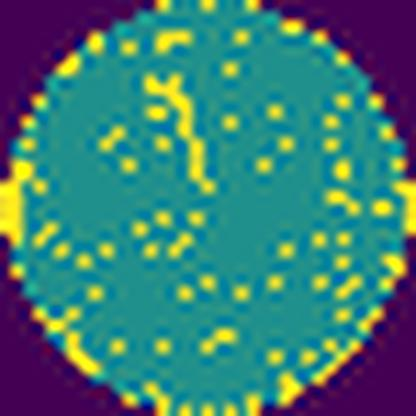Scratch: (143, 70, 221, 199)
